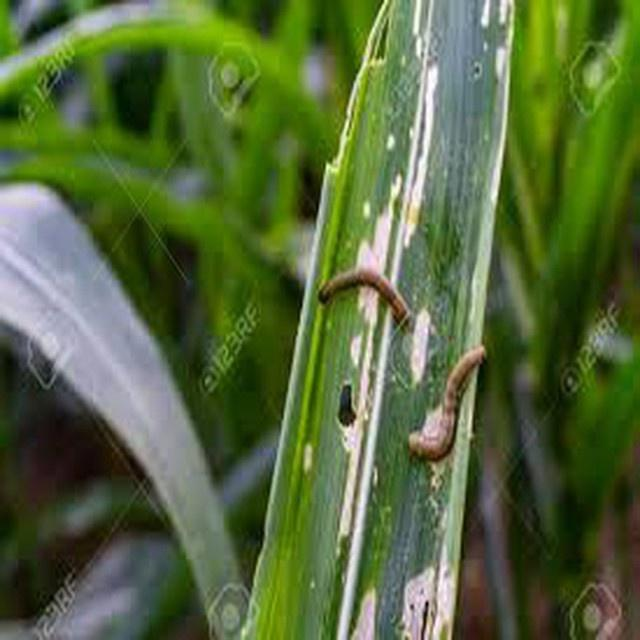Plaga: (409, 345, 491, 453), (321, 269, 411, 326)
